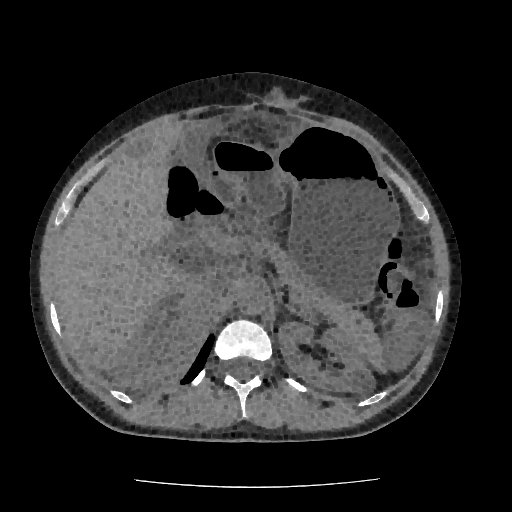Lesion: (345, 368, 377, 399)
